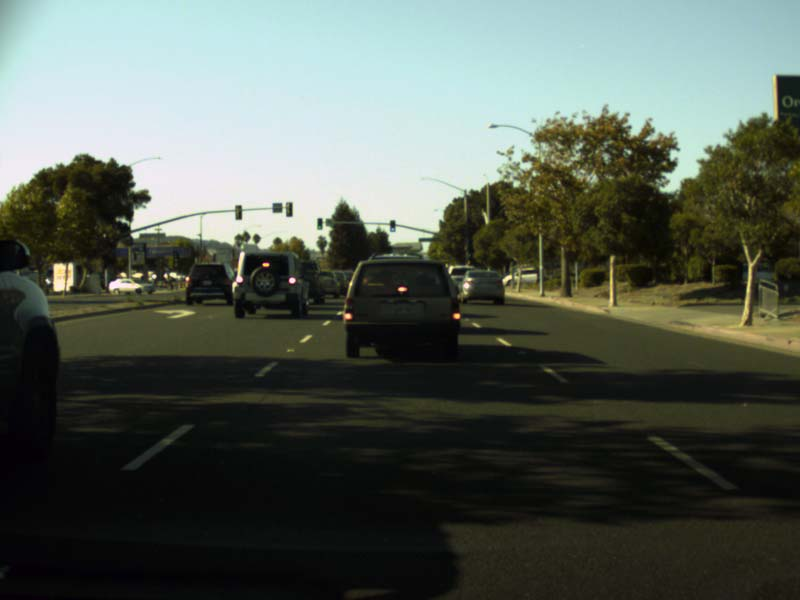Green: (316, 217, 321, 230)
